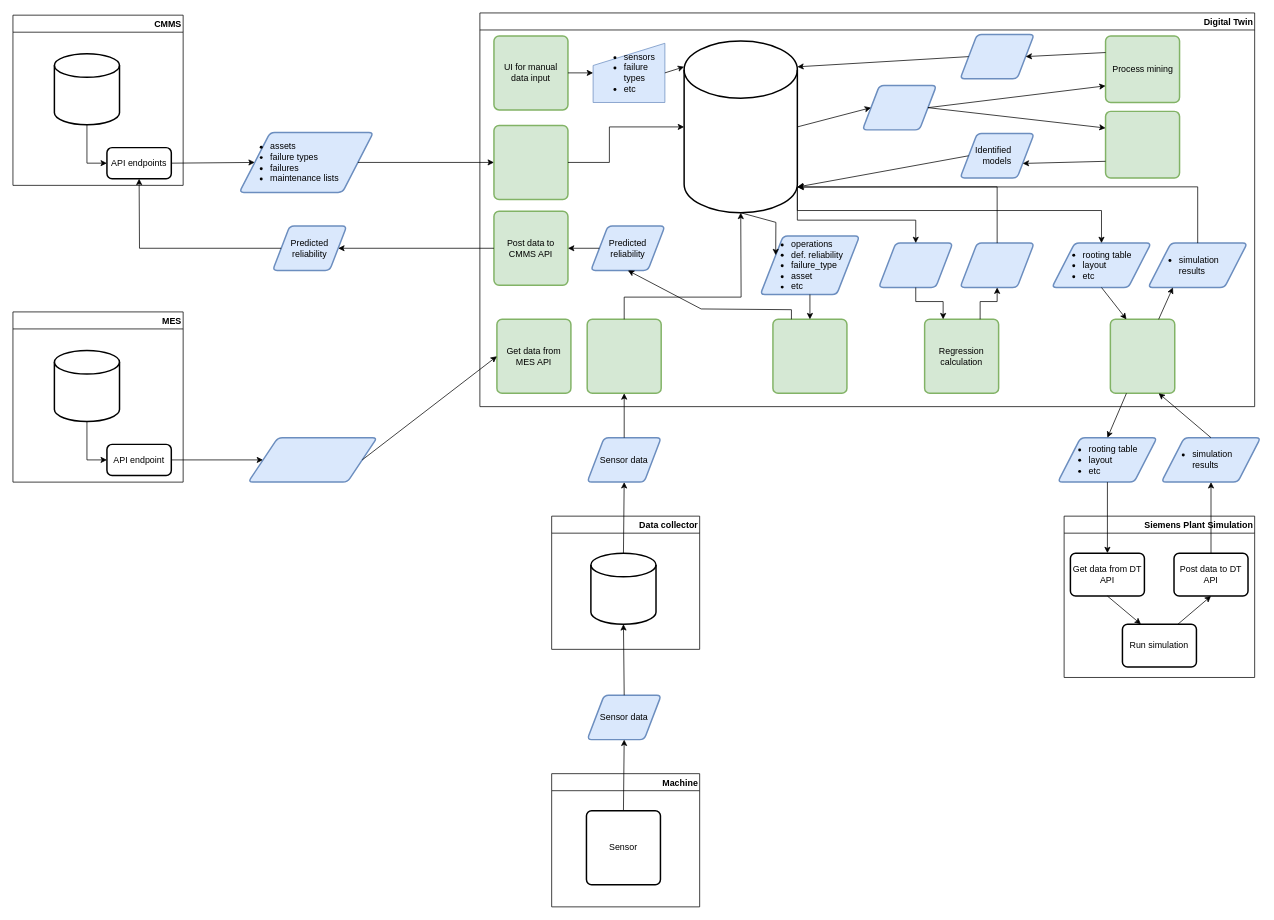
Some shapes in this 1274 by 920 pixel diagram are drawn without their labels. Each missing label, with the centre of its shape:
API endpoint for sensor data: the point at 624,356
API endpoints for Siemens Plant Simulation: the point at 1142,356
CMMS DB: the point at 86,89
DT DB: the point at 740,126
Failures: the point at 915,265
gamma eta beta: the point at 997,265
Get data from CMMS API: the point at 530,162
Identified processes: the point at 997,56
MES DB: the point at 86,385
Model mining: the point at 1142,144
Process data: the point at 899,107
production data production cost: the point at 312,459
Reliability prediction: the point at 809,356
Temporary / Permanenet DB: the point at 623,588
